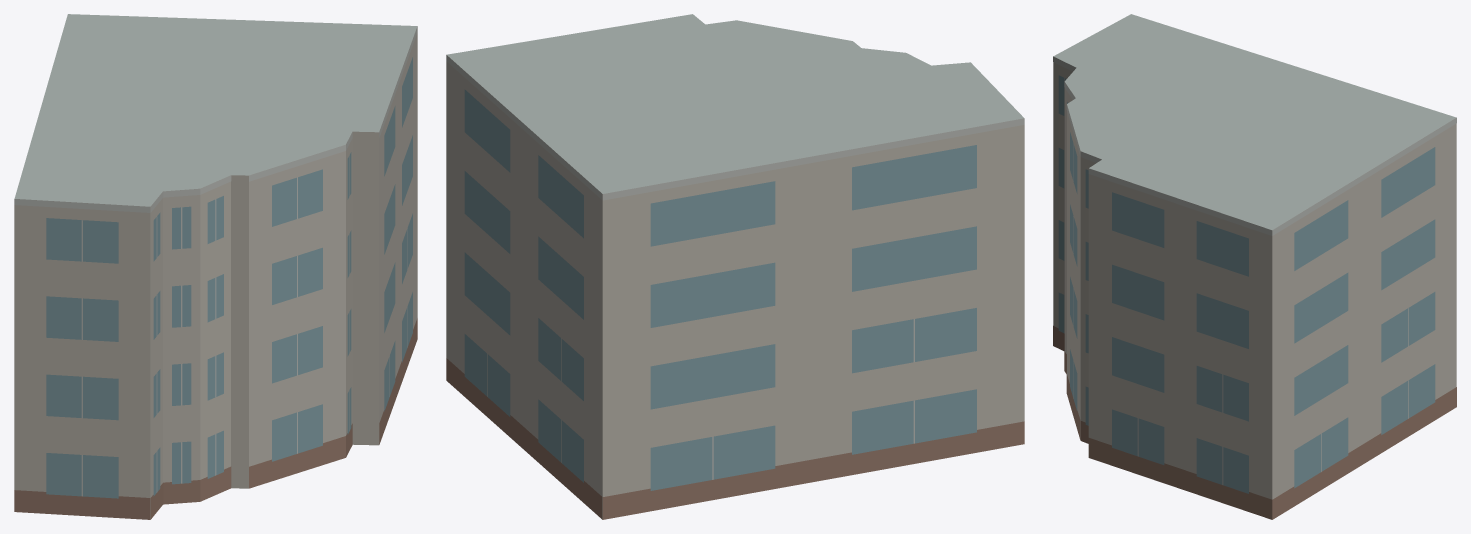
File: survey-upis-32783465.glb
The picture shows the model from 3 angles, left to right: view 1: azimuth 30°, elevation 25°; view 2: azimuth 150°, elevation 25°; view 3: azimuth 270°, elevation 25°; orthographic projection. The views are drawn at different scales.
Visible parts, largest first — view 1: survey-upis-32783465.tmp; view 2: survey-upis-32783465.tmp; view 3: survey-upis-32783465.tmp.
Boxes of the visible parts, x1,y1,x2,y2 form: survey-upis-32783465.tmp: [14, 14, 417, 519]; survey-upis-32783465.tmp: [446, 14, 1024, 519]; survey-upis-32783465.tmp: [1053, 14, 1456, 519].
Size of the model in its own units: 19.55 by 12.2 by 15.42.
